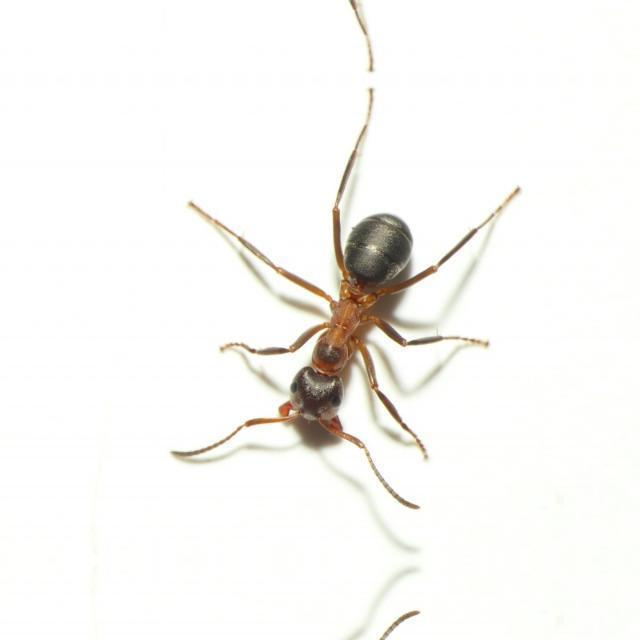Formica: (235, 142, 473, 480)
